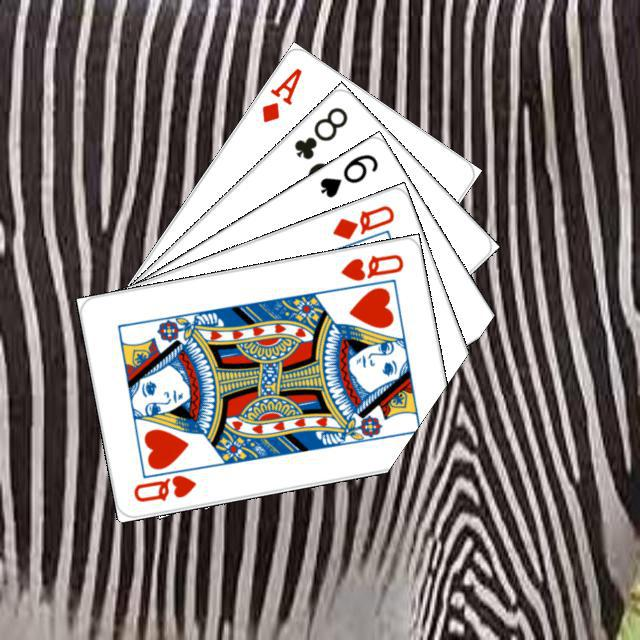6s: (314, 148, 380, 200)
8c: (289, 102, 350, 162)
Ad: (256, 62, 304, 125)
Qd: (327, 200, 397, 242)
Qh: (128, 460, 203, 504), (335, 249, 406, 283)
